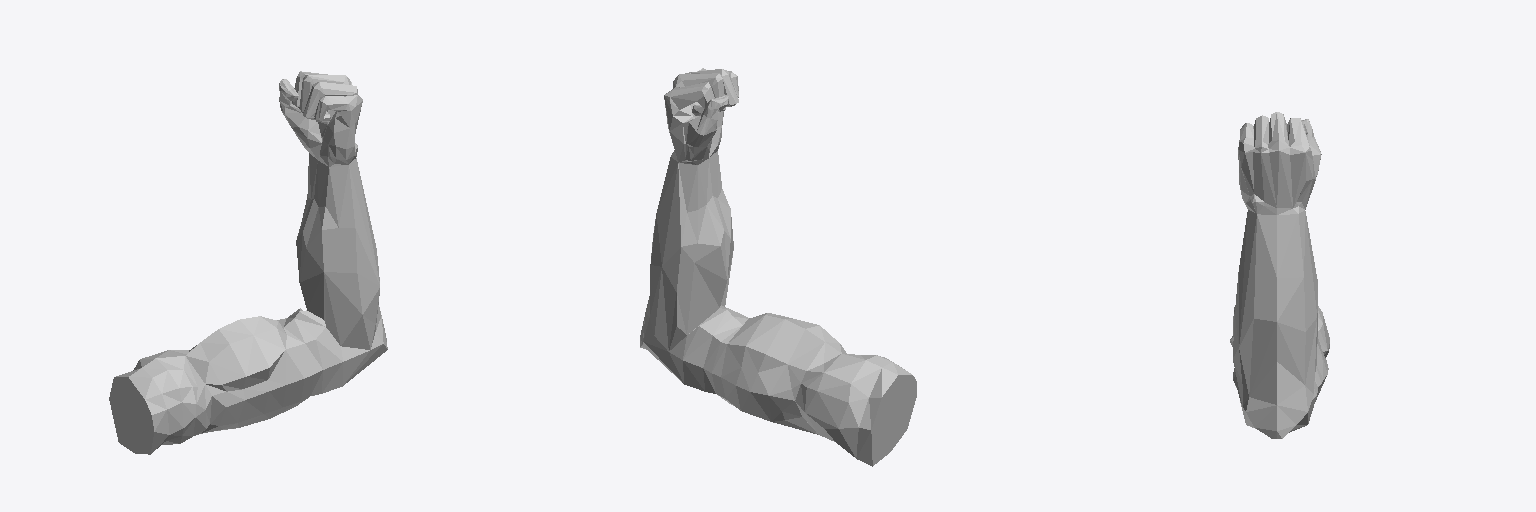
Rendered from UDE_Circle.001.obj.
The picture shows the model from 3 angles: view 1: azimuth 30°, elevation 25°; view 2: azimuth 150°, elevation 25°; view 3: azimuth 270°, elevation 25°; orthographic projection.
Parts seen in each view (by area): view 1: UDE_Circle.001; view 2: UDE_Circle.001; view 3: UDE_Circle.001.
Boxes of the visible parts, <box> form: UDE_Circle.001: <box>109,71,387,454</box>; UDE_Circle.001: <box>640,68,916,466</box>; UDE_Circle.001: <box>1230,112,1329,438</box>.
Size of the model in its own units: 10.85 by 13.59 by 3.67.